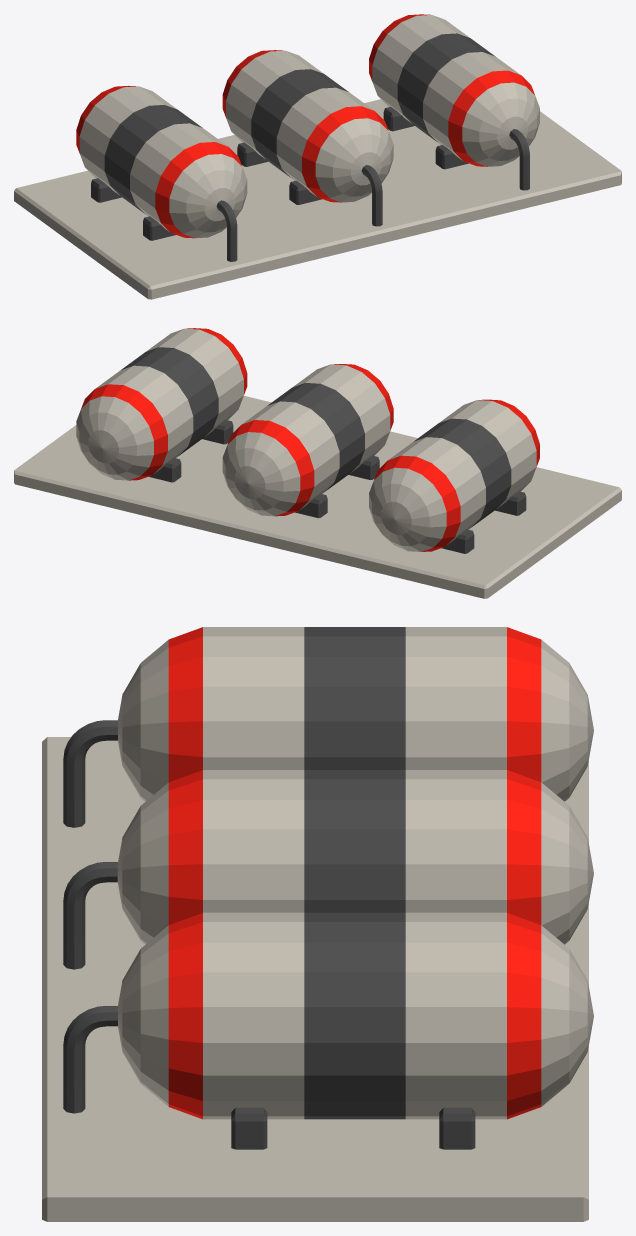
File: 03 Air_tank.FBX.glb
The picture shows the model from 3 angles, top to bottom: view 1: azimuth 30°, elevation 25°; view 2: azimuth 150°, elevation 25°; view 3: azimuth 270°, elevation 25°; orthographic projection. The views are drawn at different scales.
Parts seen in each view (by area): view 1: Sphere003.2; view 2: Sphere003.2; view 3: Sphere003.2.
Part boxes in pixels (x1,y1,x2,y2): Sphere003.2: [14, 14, 621, 299]; Sphere003.2: [14, 328, 621, 598]; Sphere003.2: [42, 627, 593, 1221].
Bounding box in the file's own units: 4000 × 896 × 2018.
